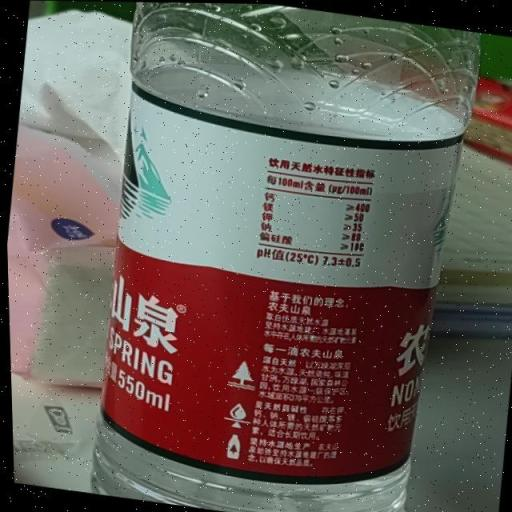plastic: (68, 1, 490, 512)
